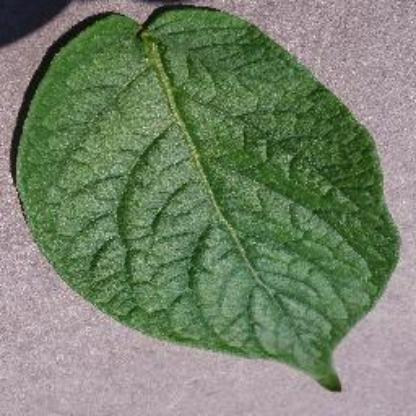Healthy-plant: (14, 7, 400, 399)
